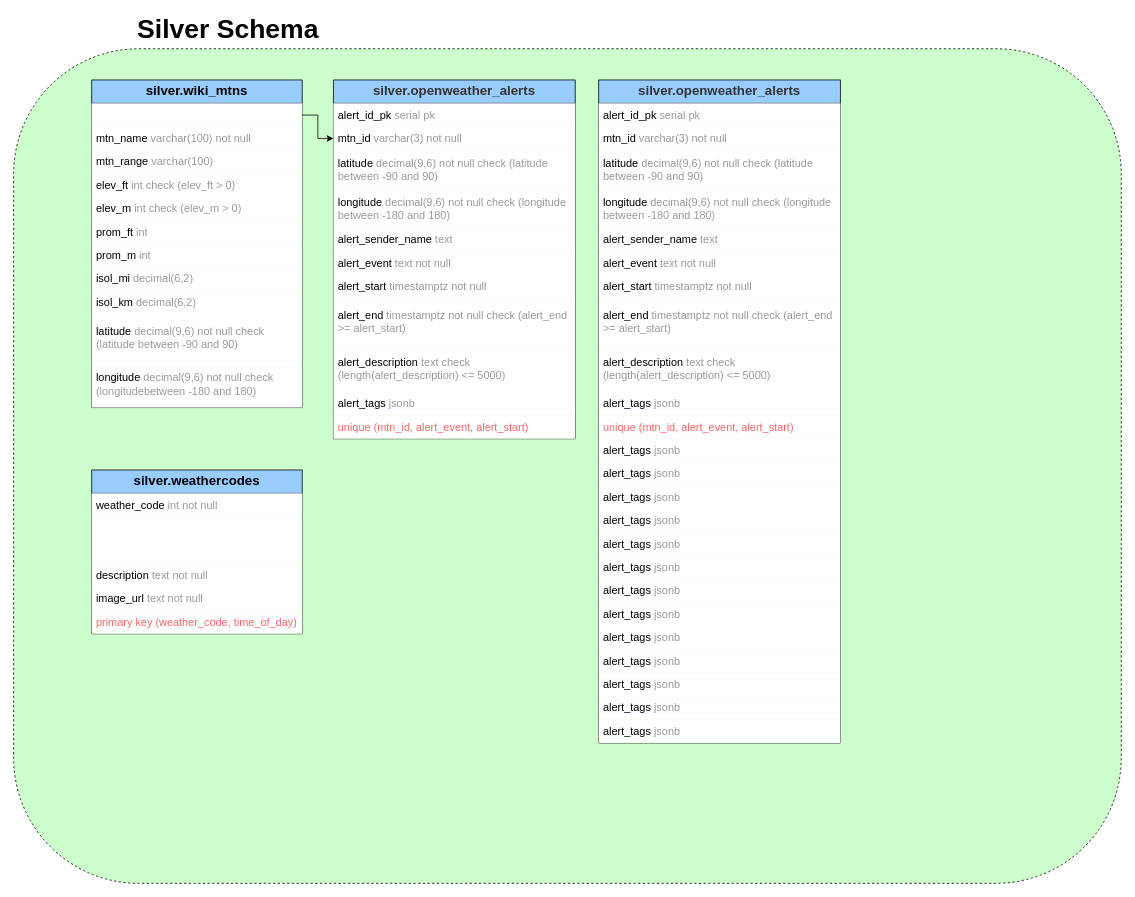
The diagram is 1135 pixels wide and 897 high, and some of its shapes have lost their labels. The centre of each missing label's shape, as x and y in pixels:
"mtn_id_pk varchar(3) pk" belongs at (196,114).
"time_of_day varchar(5) not null check (time_of_day in ('day', 'night')" belongs at (196,539).
